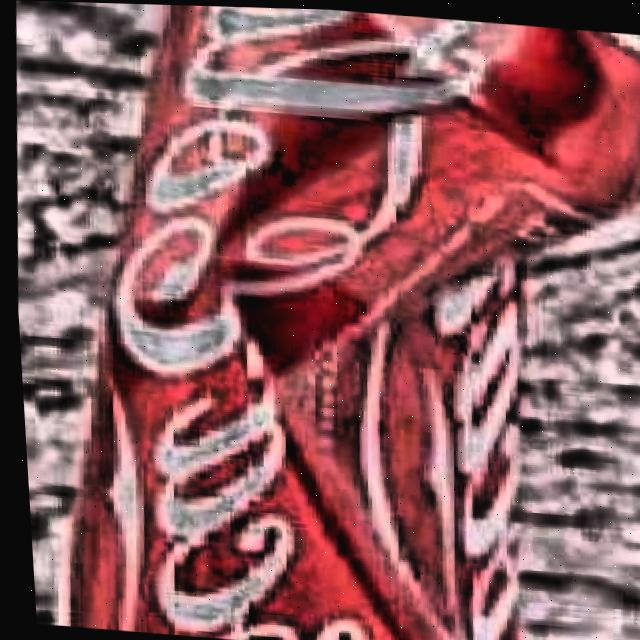metal: (48, 4, 640, 640)
